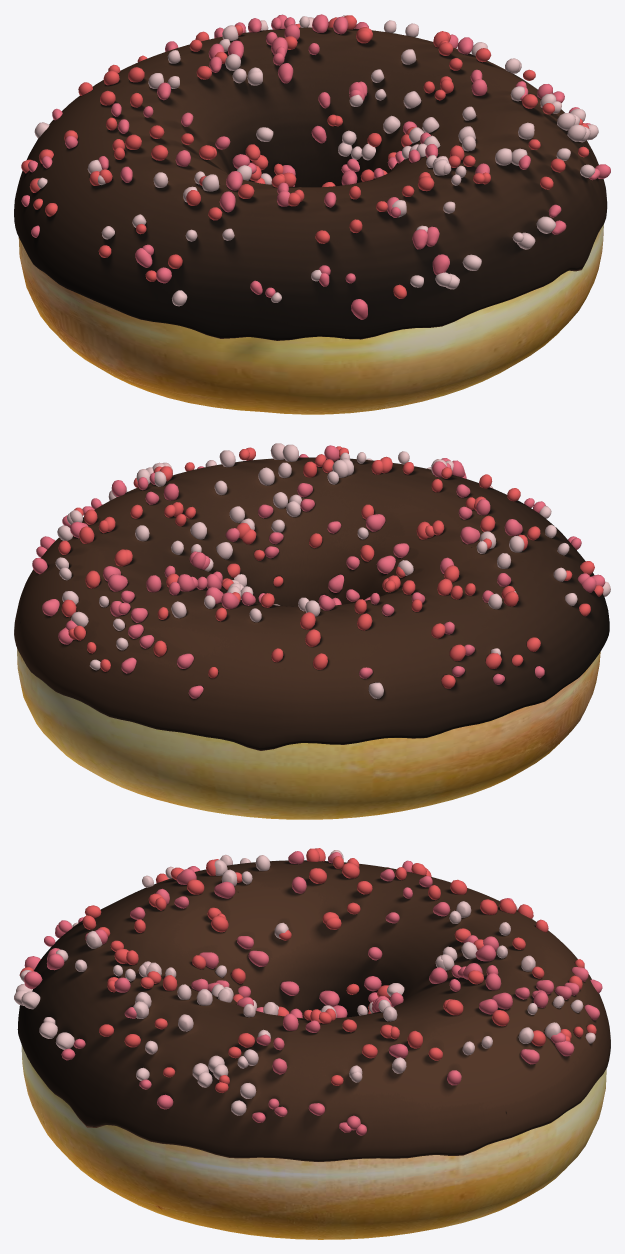
The model's file is dark red and white.glb.
The picture shows the model from 3 angles, top to bottom: view 1: azimuth 30°, elevation 25°; view 2: azimuth 150°, elevation 25°; view 3: azimuth 270°, elevation 25°; orthographic projection. The views are drawn at different scales.
Visible parts, largest first — view 1: dark, coffee.001, Torus, red and white; view 2: dark, coffee.001, Torus, red and white; view 3: dark, coffee.001, Torus, red and white.
Part boxes in pixels (x1,y1,x2,y2): dark: [14, 27, 606, 340]; coffee.001: [14, 27, 607, 340]; Torus: [18, 224, 603, 414]; red and white: [21, 14, 610, 319]; dark: [14, 457, 608, 750]; coffee.001: [14, 457, 609, 750]; Torus: [17, 648, 600, 819]; red and white: [32, 443, 610, 698]; dark: [18, 860, 610, 1161]; coffee.001: [17, 860, 610, 1161]; Torus: [21, 1044, 606, 1239]; red and white: [14, 848, 602, 1135].
Size of the model in its own units: 0.2 by 0.0774 by 0.1985.
6 materials, 2 textured.
